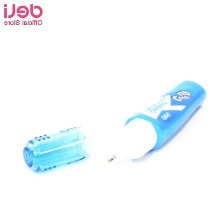correction_fluid: (104, 78, 208, 167)
